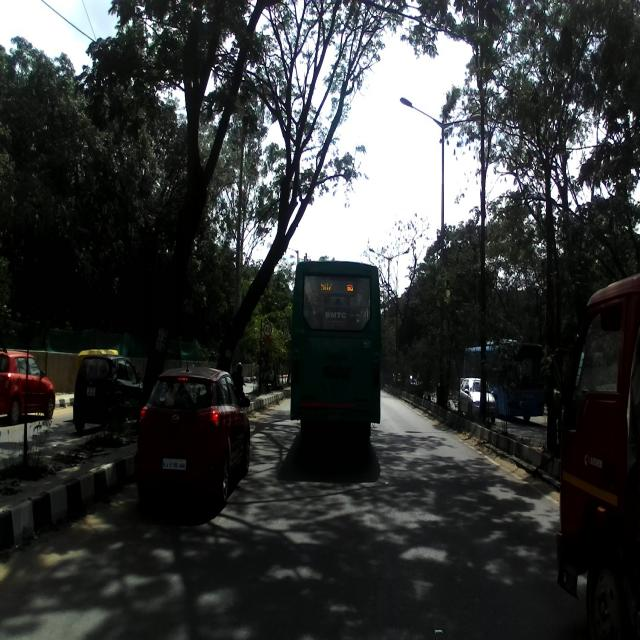Car_Hyundai: (137, 355, 251, 513)
Car_Maruti-Suzuki: (72, 352, 143, 428), (0, 344, 57, 424)
bus: (288, 256, 386, 454)
truck: (554, 254, 640, 636)
